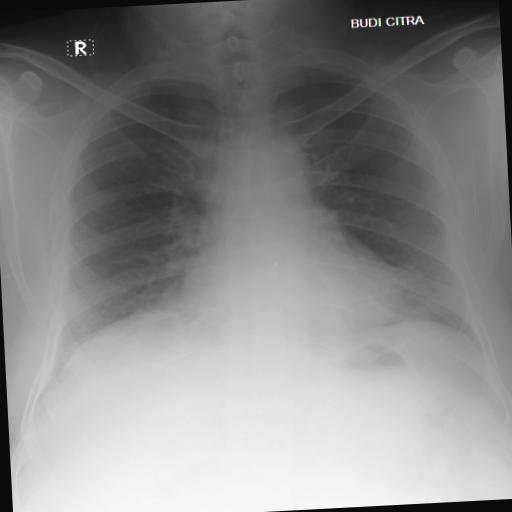kardiomegali: (16, 25, 512, 420)
